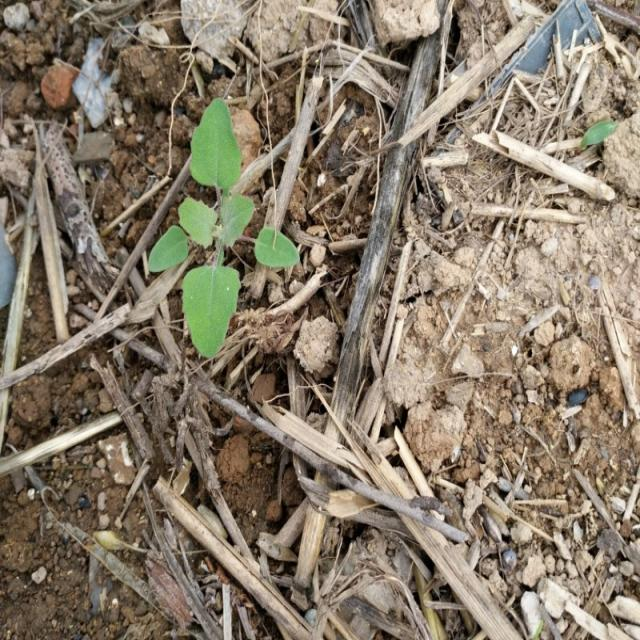ca: (181, 98, 254, 357)
